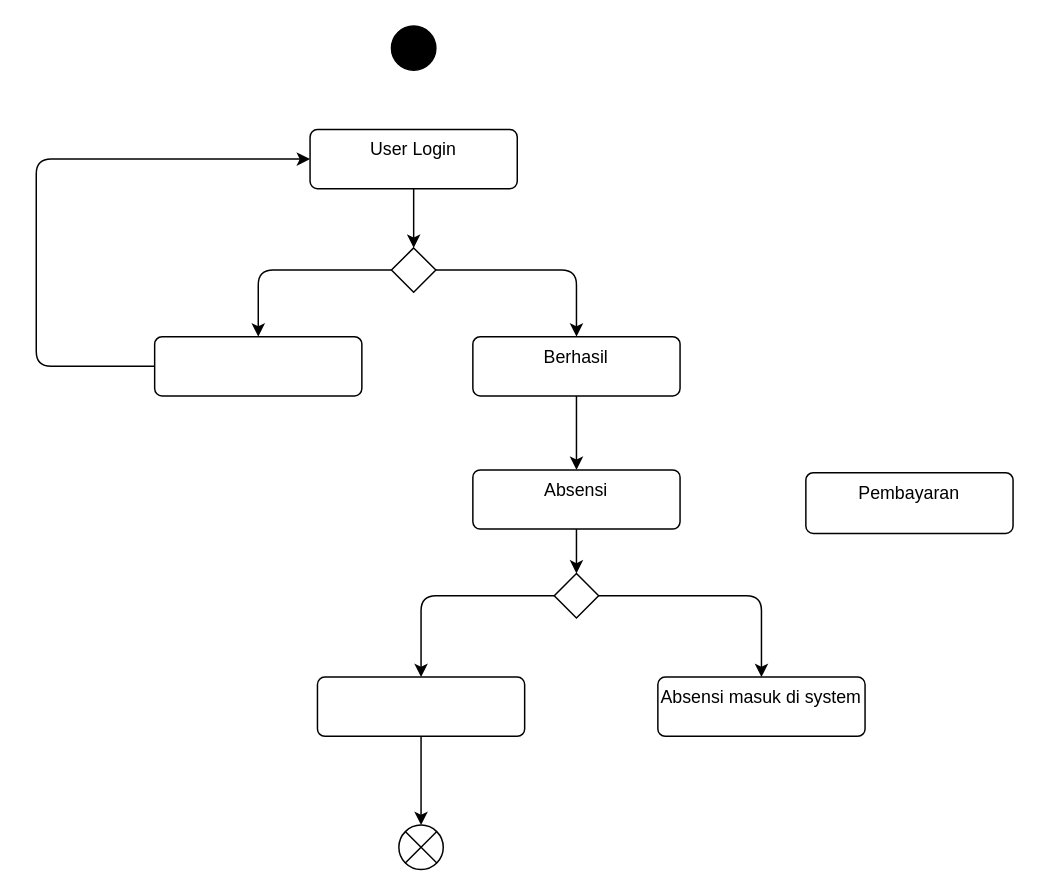
Image size: 1039x895. Some labels were removed from this diagram. The shapes that lost their labels are listed below. From the top down, each one's centre as x and y in pixels, then its label:
At point (257, 365): "Gagal".
At point (420, 706): "Tidak absen".
